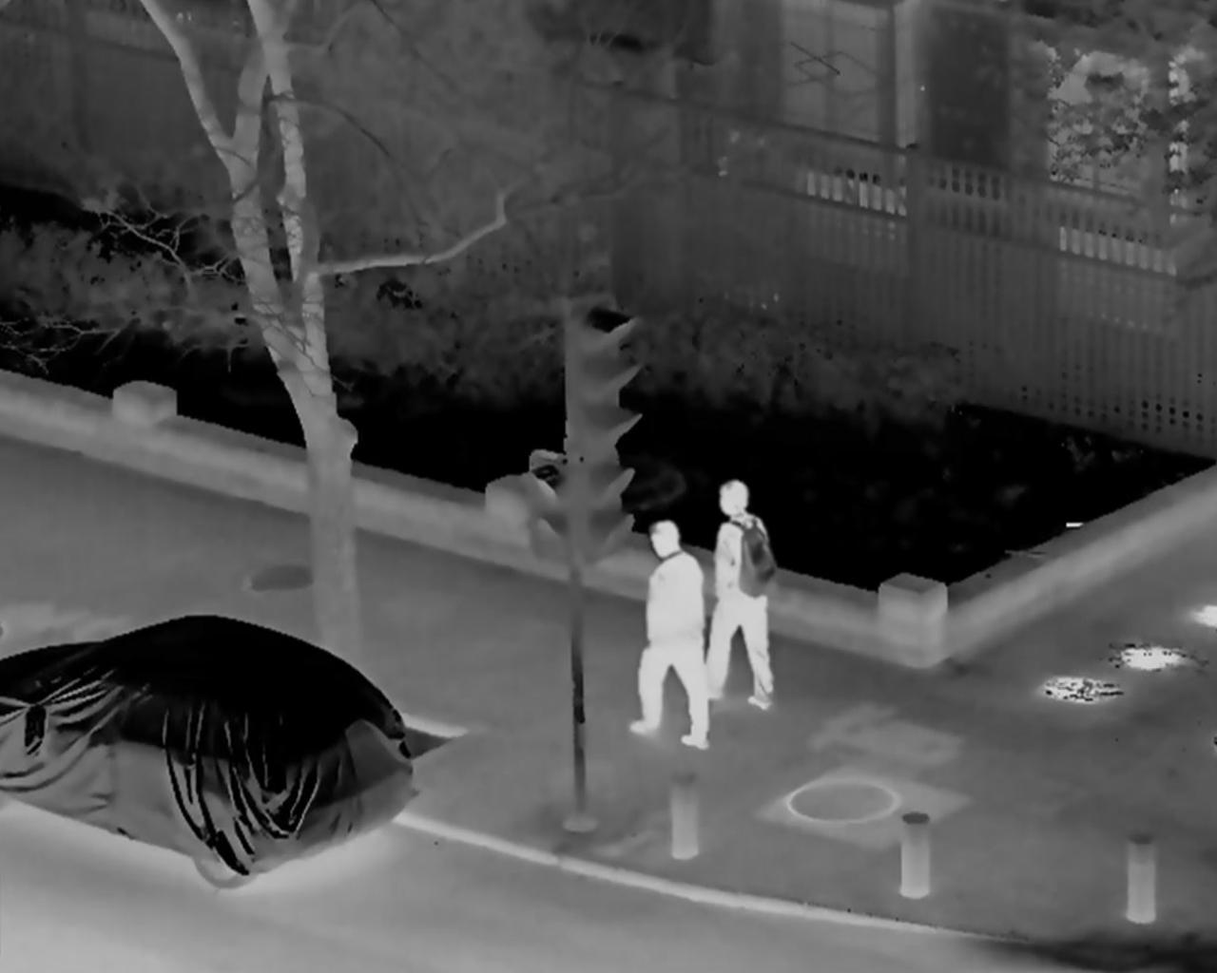person: (690, 479, 782, 712), (626, 521, 715, 752)
